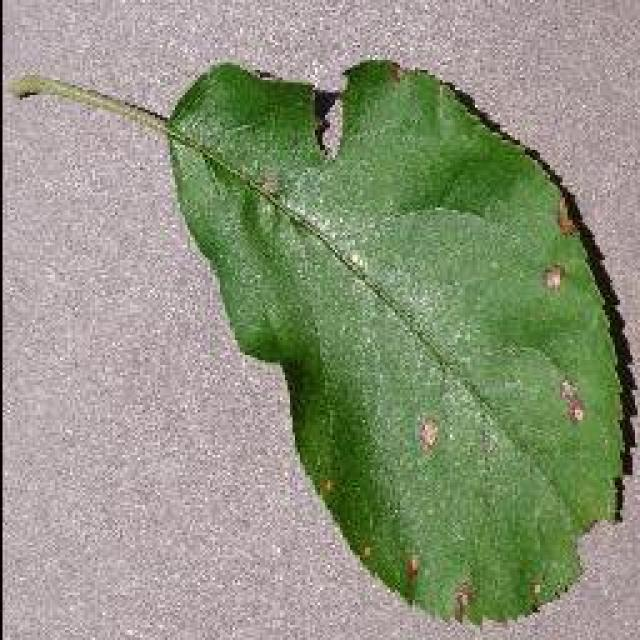Black_rot: (10, 55, 638, 630)
